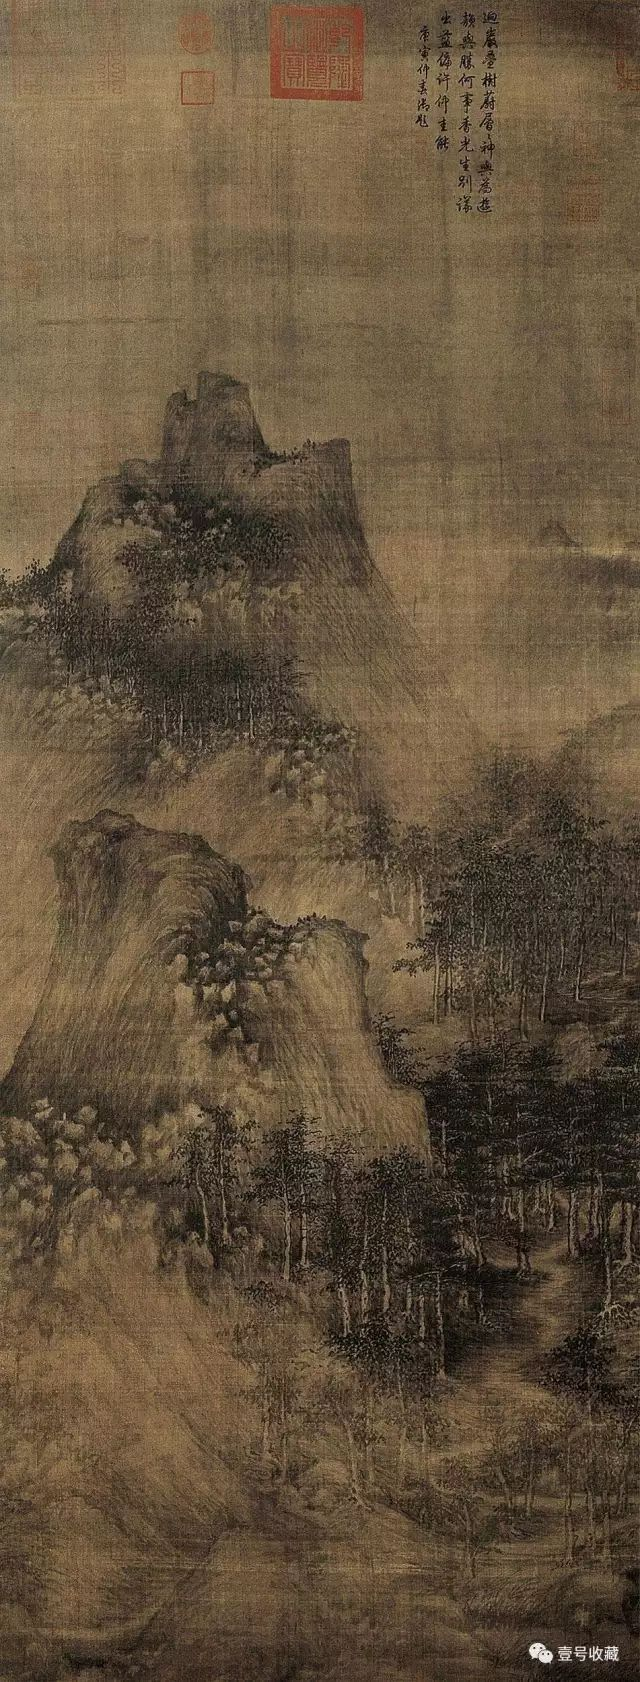hill: (41, 369, 426, 786), (41, 806, 378, 1165)
tree: (193, 1132, 474, 1362), (419, 832, 610, 1049), (443, 1078, 640, 1251), (56, 614, 293, 738)
